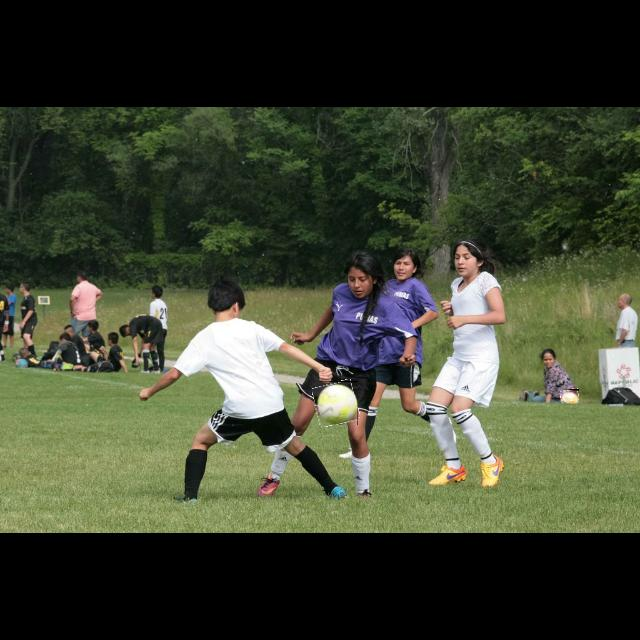Football: (314, 381, 358, 425), (561, 389, 579, 401)
